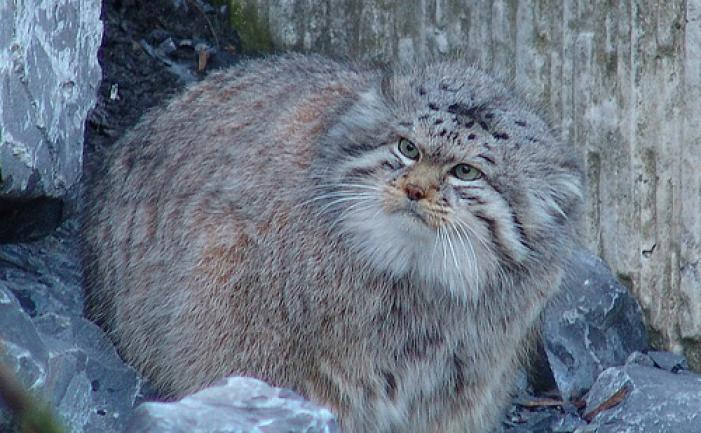cat: (65, 44, 586, 433)
